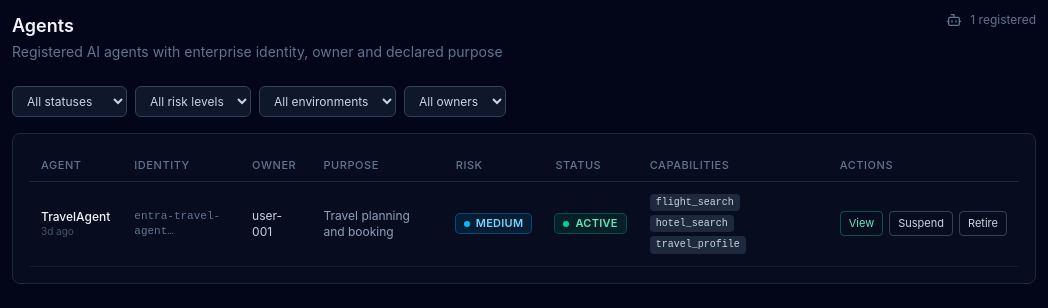
Test case: Agents › filters by status
Expected: the link "TravelAgent" is shown, [41,209,110,224]
Select "SUSPENDED" in the 1st dropdown showing "All statuses" at (70, 102), box [12,86,127,117]
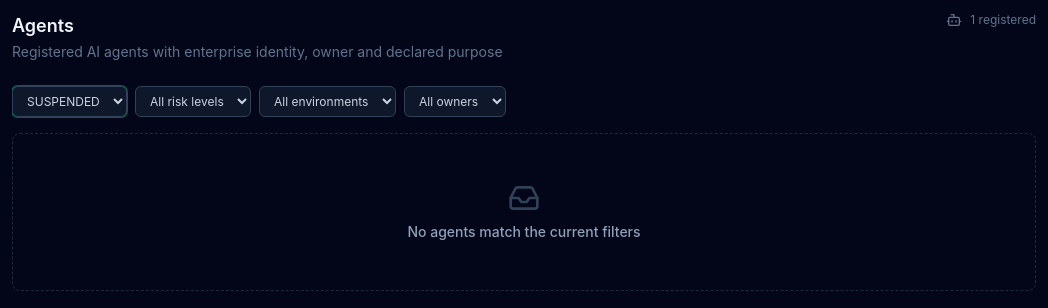
Expected: the text "No agents match the current filters" is shown, [407,222,641,242]
